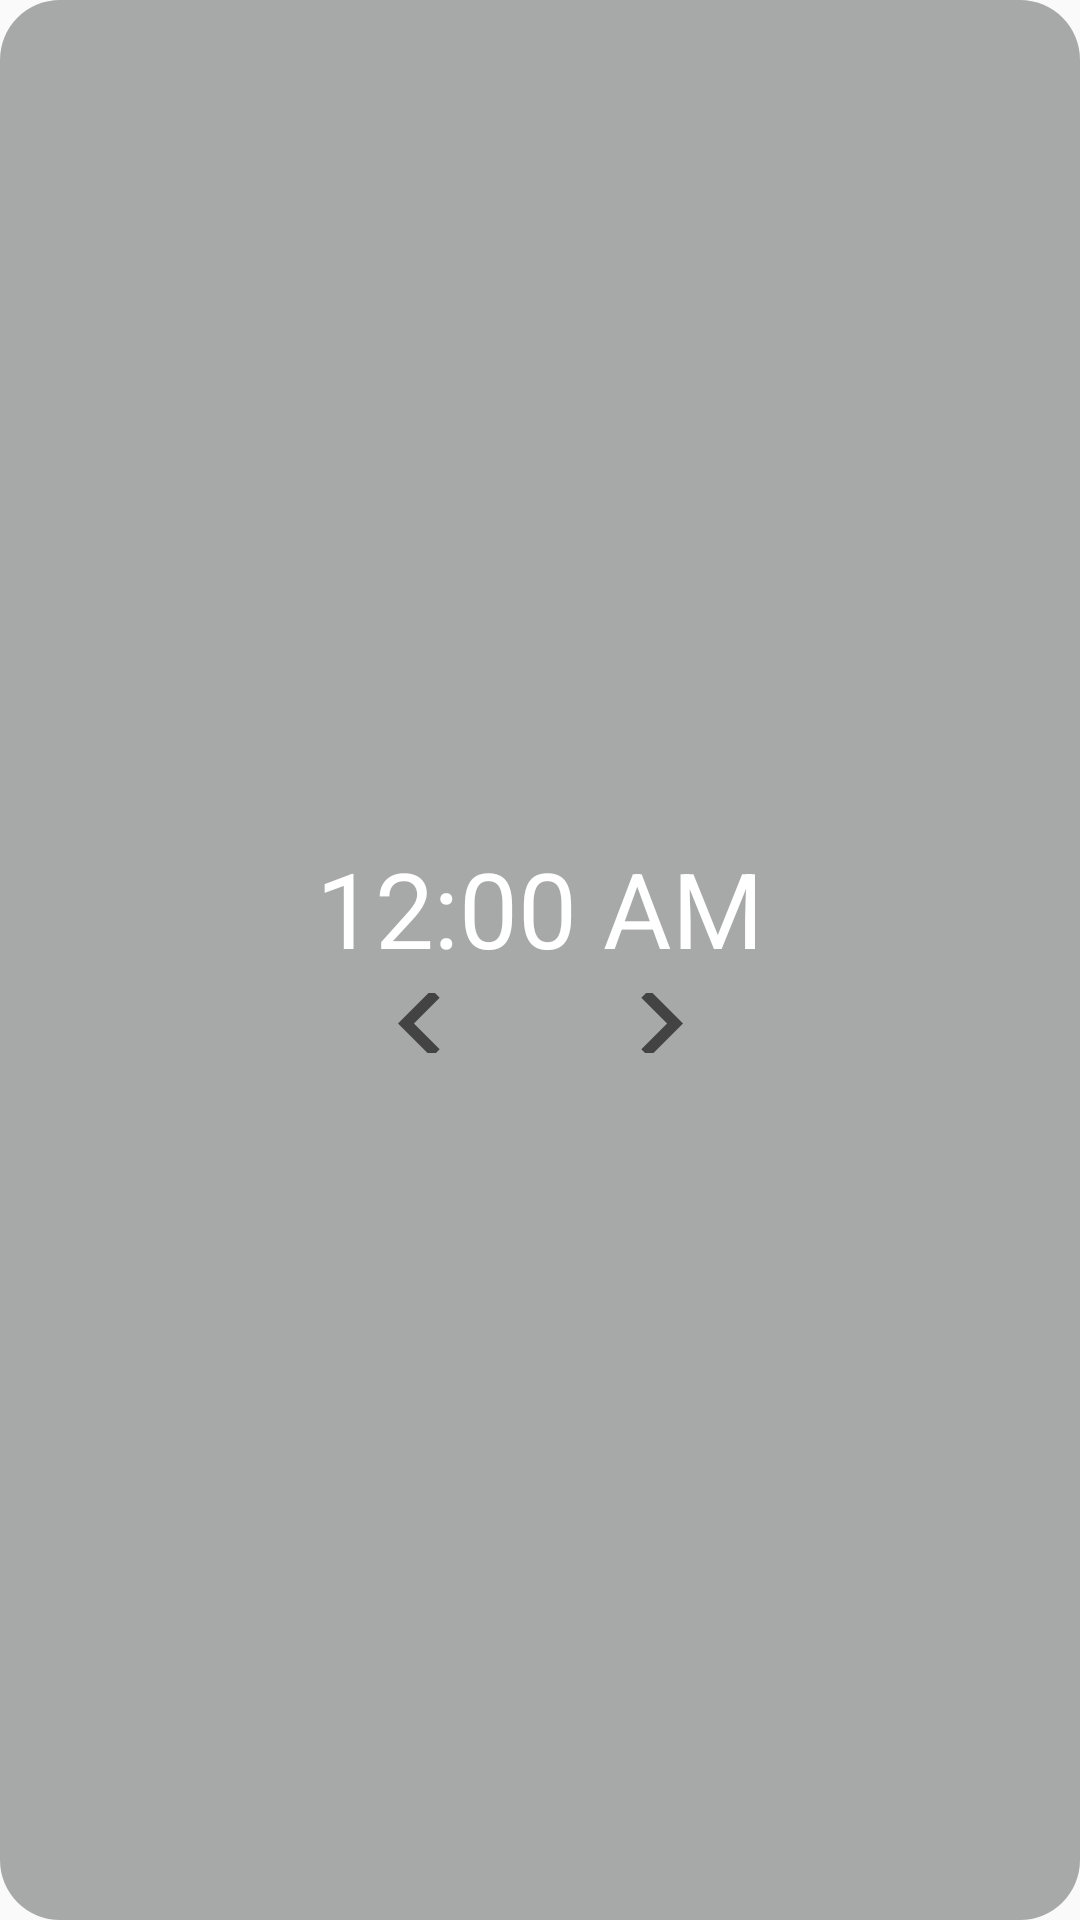

Where icons sit on this 1080px x 1920px app screen, as [x1=x1, y1=y1, x2=x2, y2=y2]:
keyboard arrow left: [x1=398, y1=993, x2=440, y2=1053]
keyboard arrow right: [x1=641, y1=993, x2=683, y2=1053]
